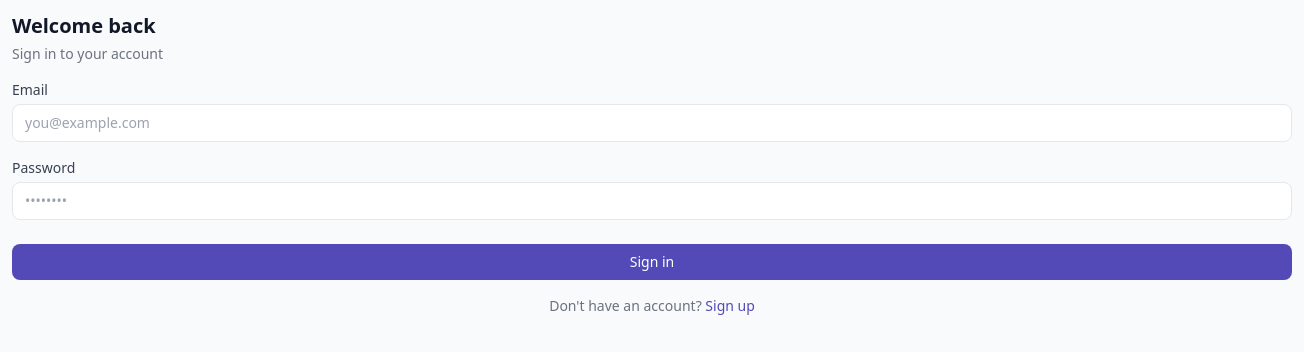
Test: LoginForm › shows error for invalid email format
The width and height of the screenshot is (1304, 352).
Type "notanemail" into the field labelled "Email".
click(652, 123); type("notanemail")  # box [12,104,1292,142]
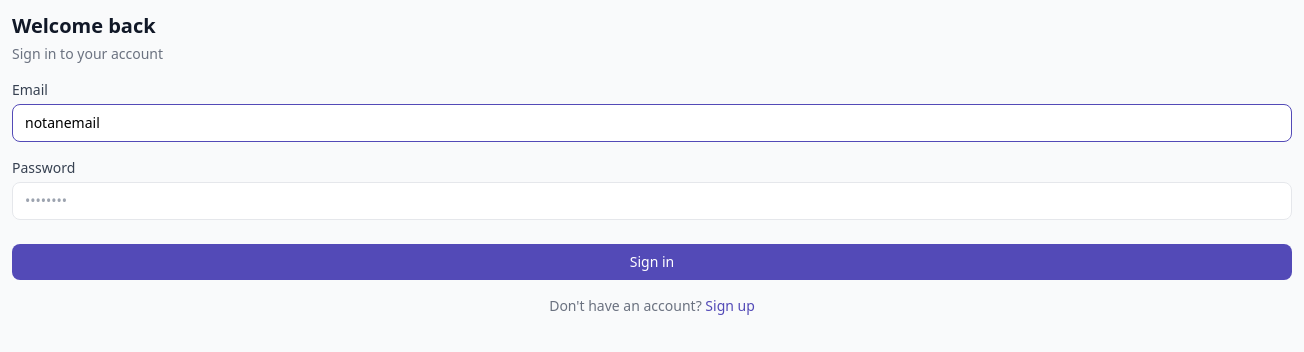
Type "password123" into the password field labelled "Password".
click(652, 201); type("password123")  # box [12,182,1292,220]
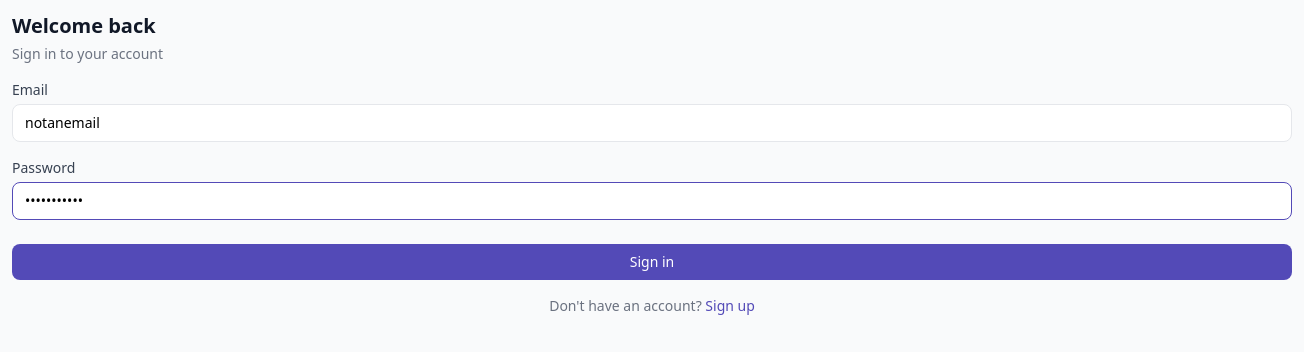
Click the button "Sign in".
click(652, 262)  # box [12,244,1292,280]
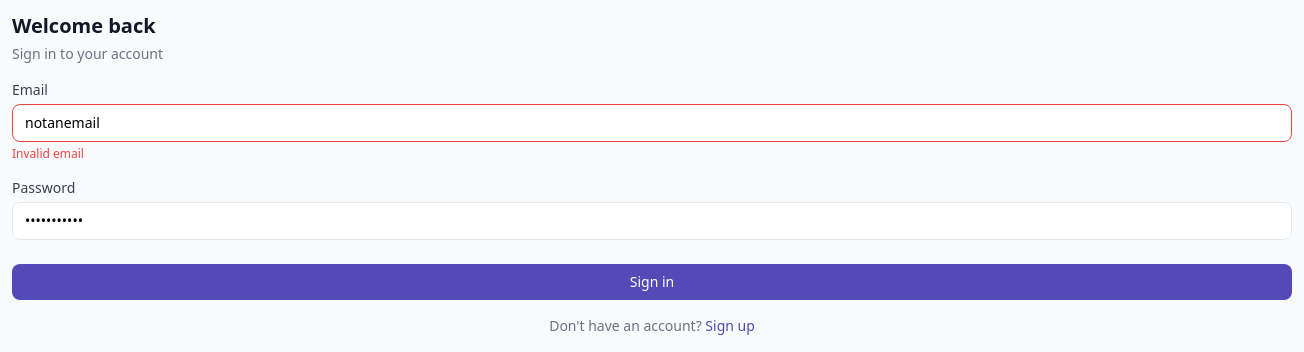
Check: the text "Invalid email" is shown, box [12,145,84,162]
